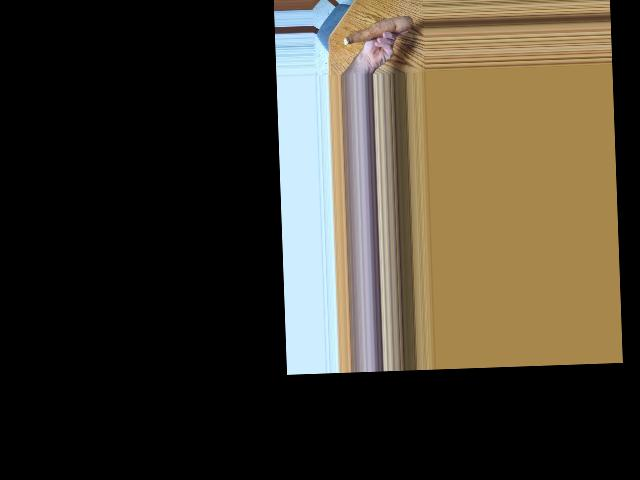sweet_potato: (342, 14, 414, 47)
